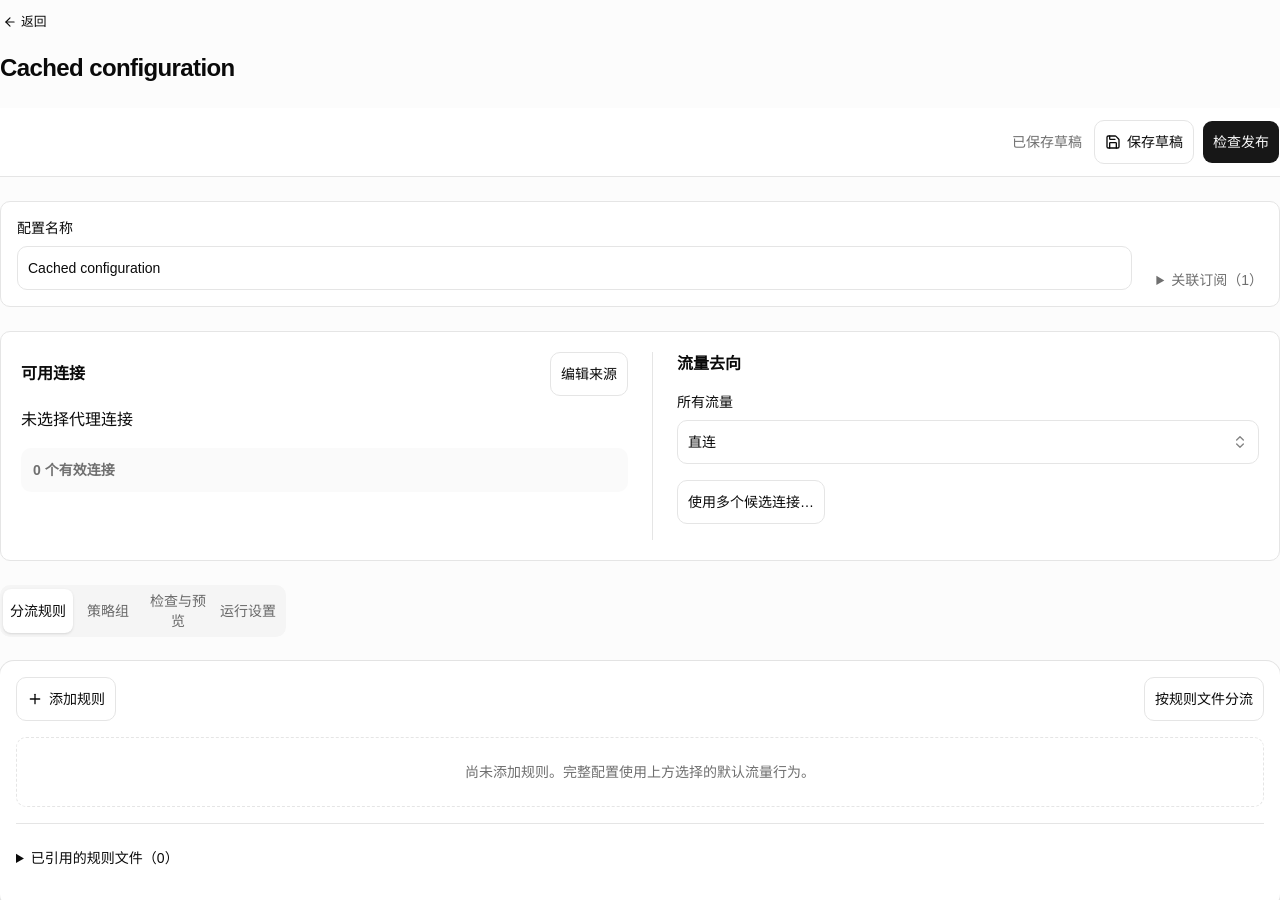
Scenario: refreshes a missing preferred target despite a fresh outputs cache before allowing review
The width and height of the screenshot is (1280, 900).
Click the button "检查发布" at (1241, 142), box [1202,120,1279,164]
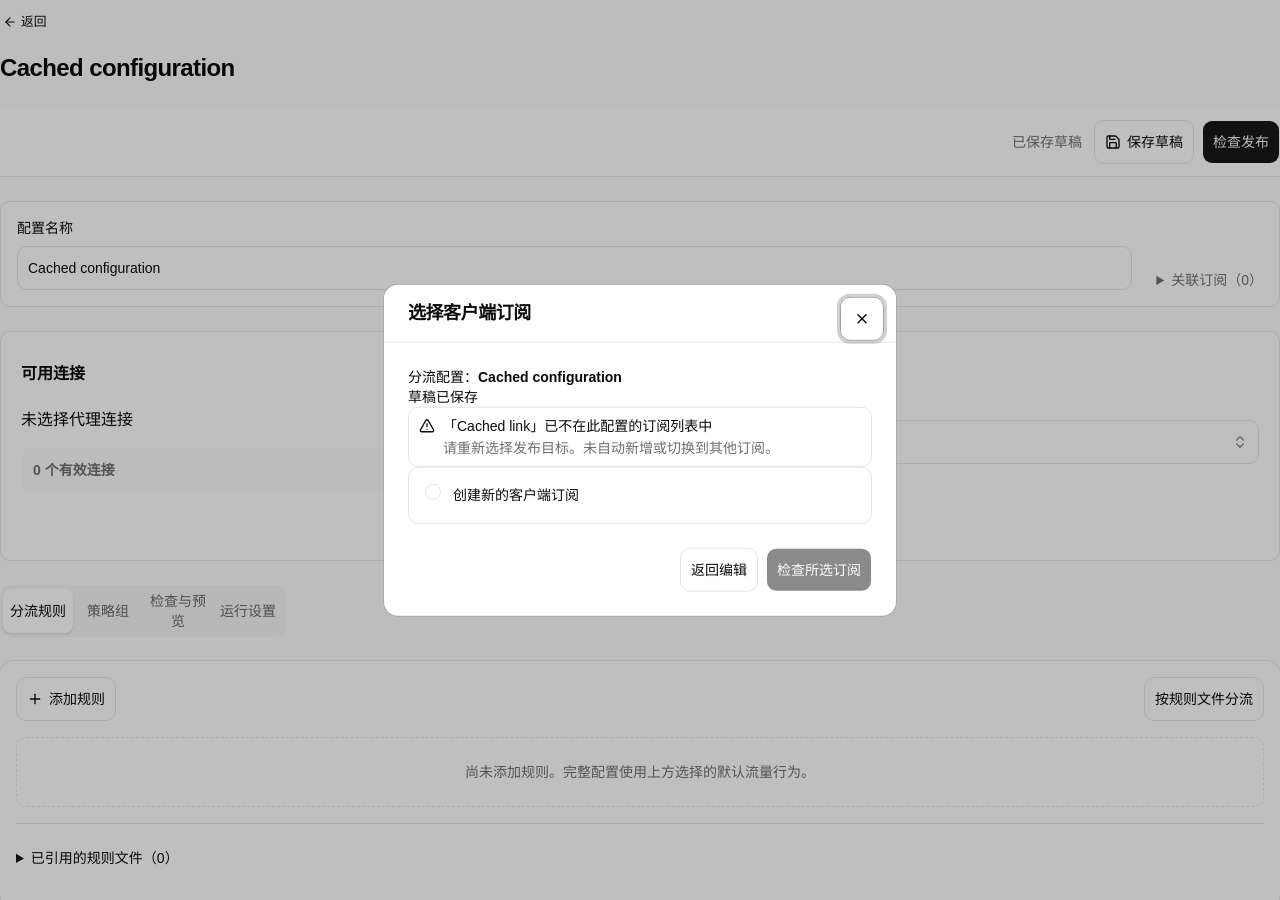
Check: the text "「Cached link」已不在此配置的订阅列表中" is shown, box [443,418,712,434]
Check: the button "检查所选订阅" is disabled, box [766,547,872,591]
